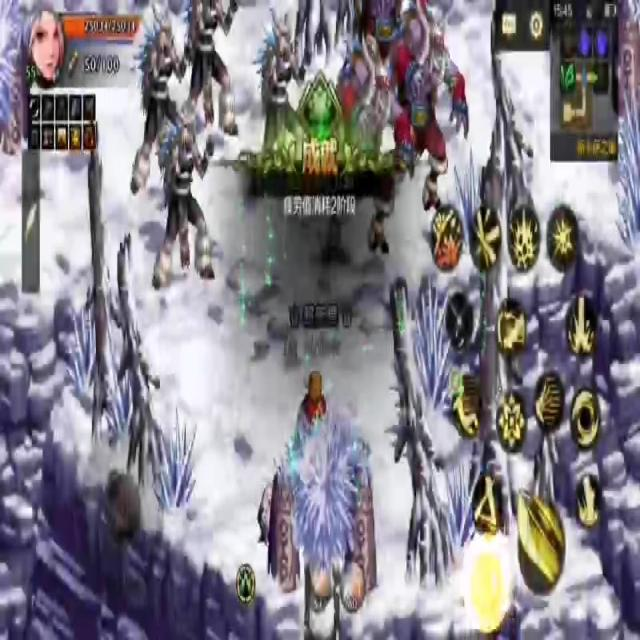player: (293, 368, 331, 454)
